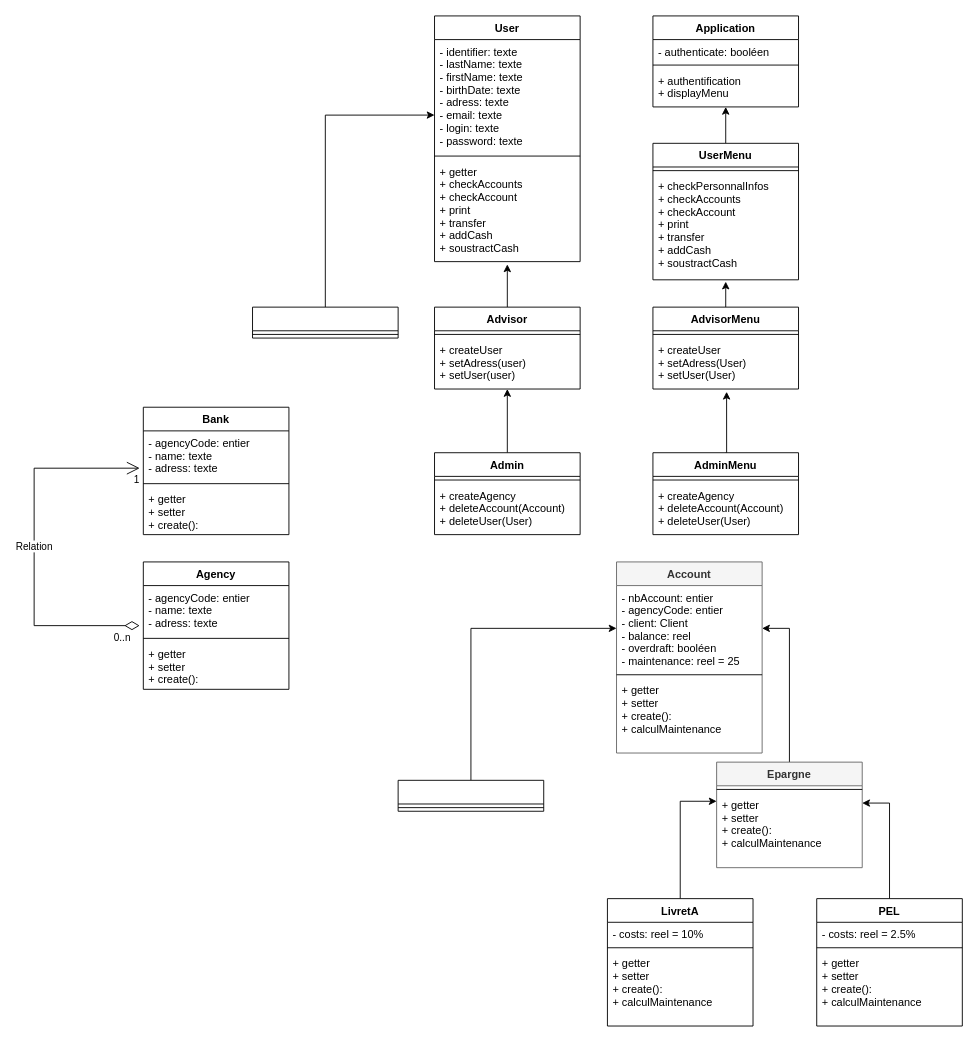
Some shapes in this 978 by 1045 pixel diagram are drawn without their labels. The shapes that lost their labels are listed below. From the top down, each one's centre as x and y in pixels, then its label:
the point at 325,322: Client
the point at 470,795: CurrentAccount
